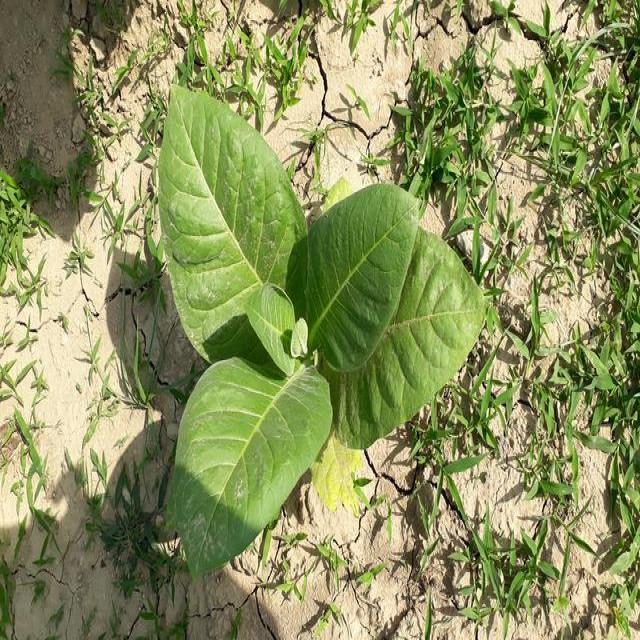crop: (158, 75, 502, 574)
